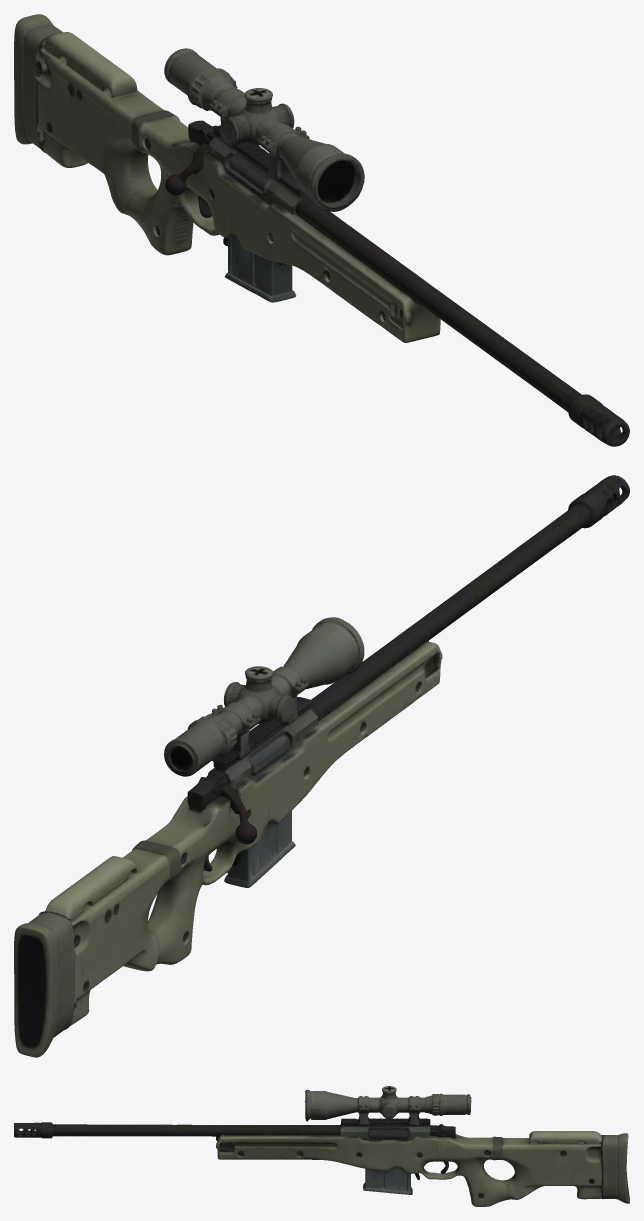
File: AWM-v1-optimized.glb
3 views of the same model, one above another, from view 1: azimuth 30°, elevation 25°; view 2: azimuth 150°, elevation 25°; view 3: azimuth 270°, elevation 25° (orthographic). The views are drawn at different scales.
Parts seen in each view (by area): view 1: geometry_0; view 2: geometry_0; view 3: geometry_0.
Part boxes in pixels (bbox=[...]): geometry_0: bbox=[14, 14, 629, 446]; geometry_0: bbox=[14, 475, 629, 1057]; geometry_0: bbox=[14, 1086, 629, 1206].
Size of the model in its own units: 0.072 by 0.207 by 1.
1 material, 1 textured.
